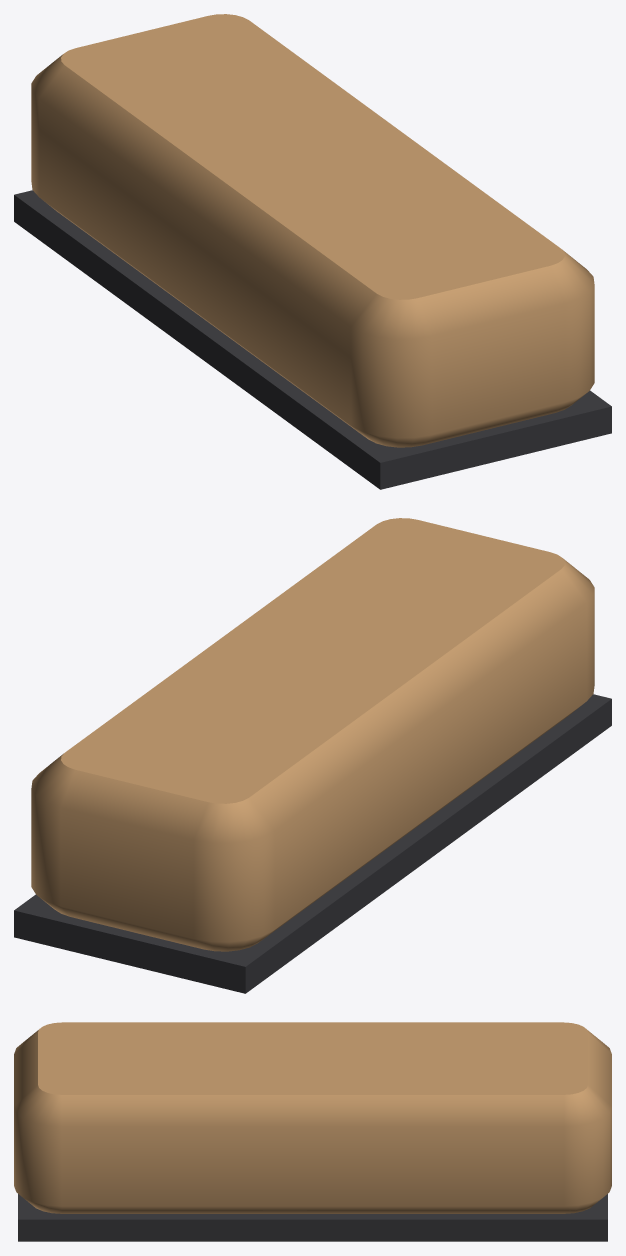
Rendered from board_eraser.glb.
3 views of the same model, one above another, from view 1: azimuth 30°, elevation 25°; view 2: azimuth 150°, elevation 25°; view 3: azimuth 270°, elevation 25° (orthographic). The views are drawn at different scales.
Visible parts, largest first — view 1: BoardEraser; view 2: BoardEraser; view 3: BoardEraser.
Part boxes in pixels (x1,y1,x2,y2): BoardEraser: (14, 14, 611, 489); BoardEraser: (14, 518, 611, 993); BoardEraser: (14, 1022, 611, 1241).
Bounding box in the file's own units: 0.055 × 0.038 × 0.15.
